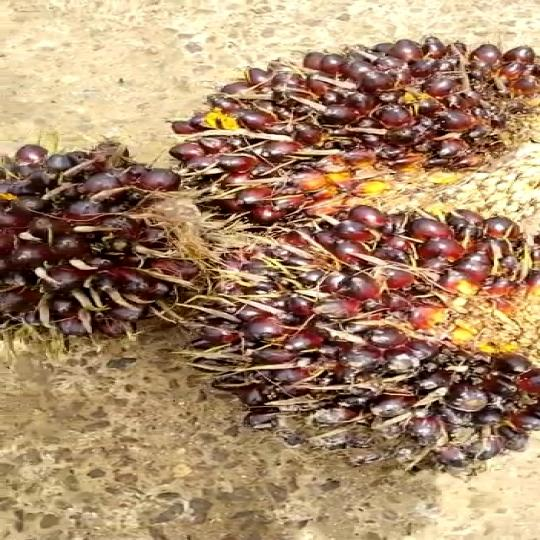kurang masak: (217, 198, 540, 466), (166, 14, 540, 205), (0, 131, 252, 359)
